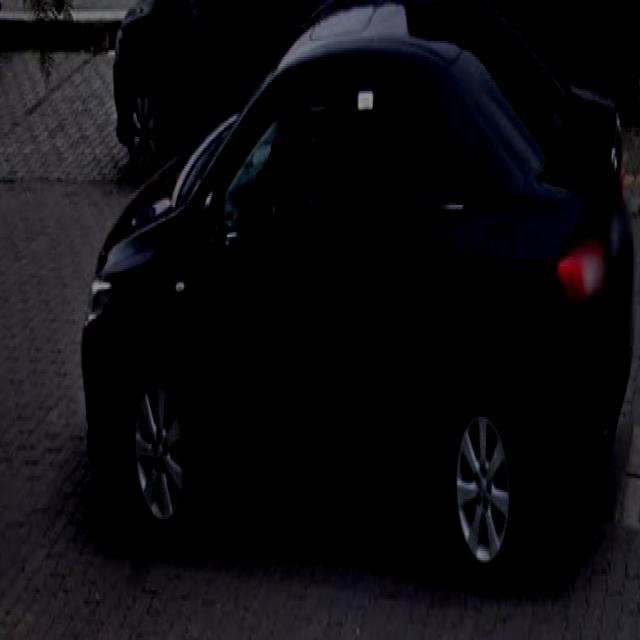car: (78, 1, 640, 614)
